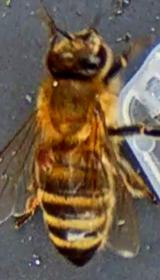varroa_mite: (32, 138, 59, 178)
